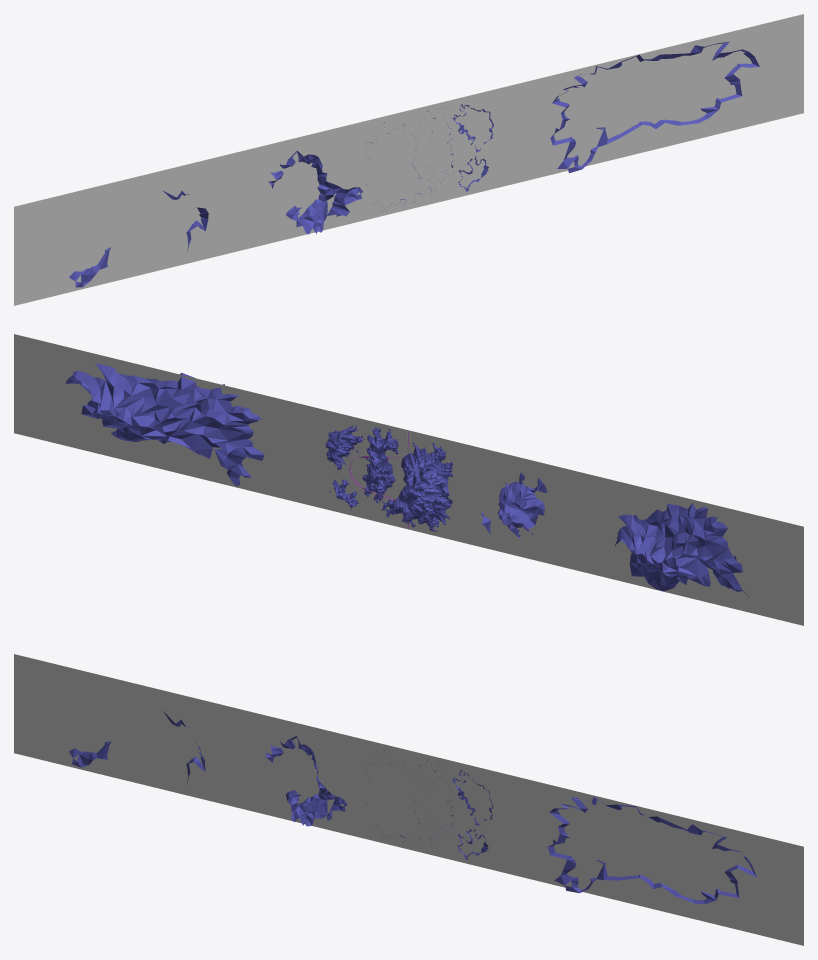
The model's file is Rock_1.FBX.
3 renders of one model, top to bottom at view 1: azimuth 30°, elevation 25°; view 2: azimuth 150°, elevation 25°; view 3: azimuth 330°, elevation 25°, orthographic.
Visible parts, largest first — view 1: Plane029, Empty; view 2: Plane029, Empty; view 3: Plane029, Empty.
Part boxes in pixels (left/top/right/bottom): Plane029: left=14, top=14, right=803, bottom=305; Empty: left=69, top=41, right=759, bottom=287; Plane029: left=14, top=334, right=803, bottom=625; Empty: left=65, top=363, right=749, bottom=597; Plane029: left=14, top=654, right=803, bottom=945; Empty: left=69, top=710, right=756, bottom=903.
Size of the model in its own units: 2000000 by 245575 by 119687.
